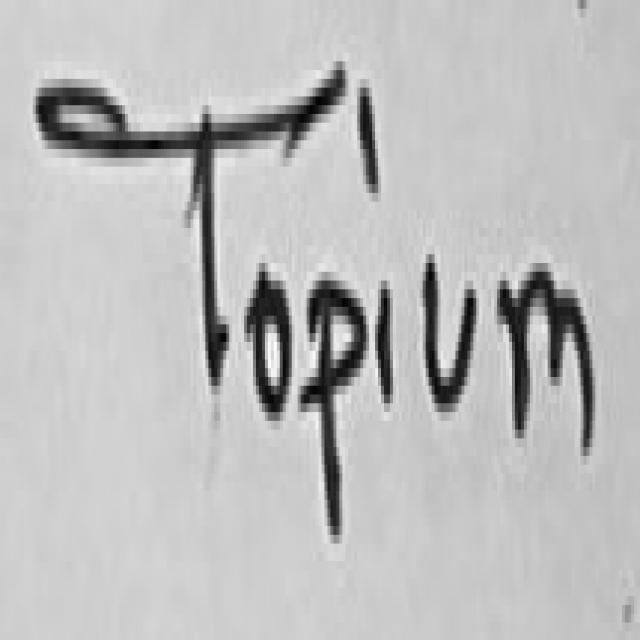T: (36, 75, 345, 386)
i: (360, 88, 381, 193), (378, 289, 393, 399)
m: (500, 272, 595, 456)
o: (247, 272, 292, 412)
p: (301, 281, 369, 544)
u: (426, 263, 479, 412)
